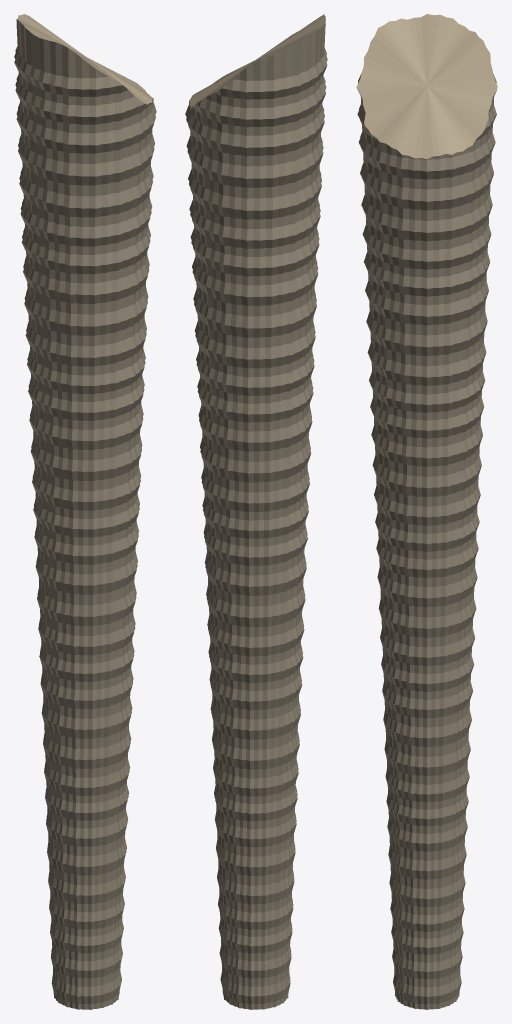
The model's file is spyroceras.glb.
3 renders of one model, left to right at view 1: azimuth 30°, elevation 25°; view 2: azimuth 150°, elevation 25°; view 3: azimuth 270°, elevation 25°, orthographic. The views are drawn at different scales.
Visible parts, largest first — view 1: preserved-phragmocone-fragment; view 2: preserved-phragmocone-fragment; view 3: preserved-phragmocone-fragment.
Boxes of the visible parts, x1,y1,x2,y2 form: preserved-phragmocone-fragment: (14,14,156,1009); preserved-phragmocone-fragment: (185,14,327,1009); preserved-phragmocone-fragment: (356,14,497,1009).
Size of the model in its own units: 0.0118 by 0.089 by 0.012.
